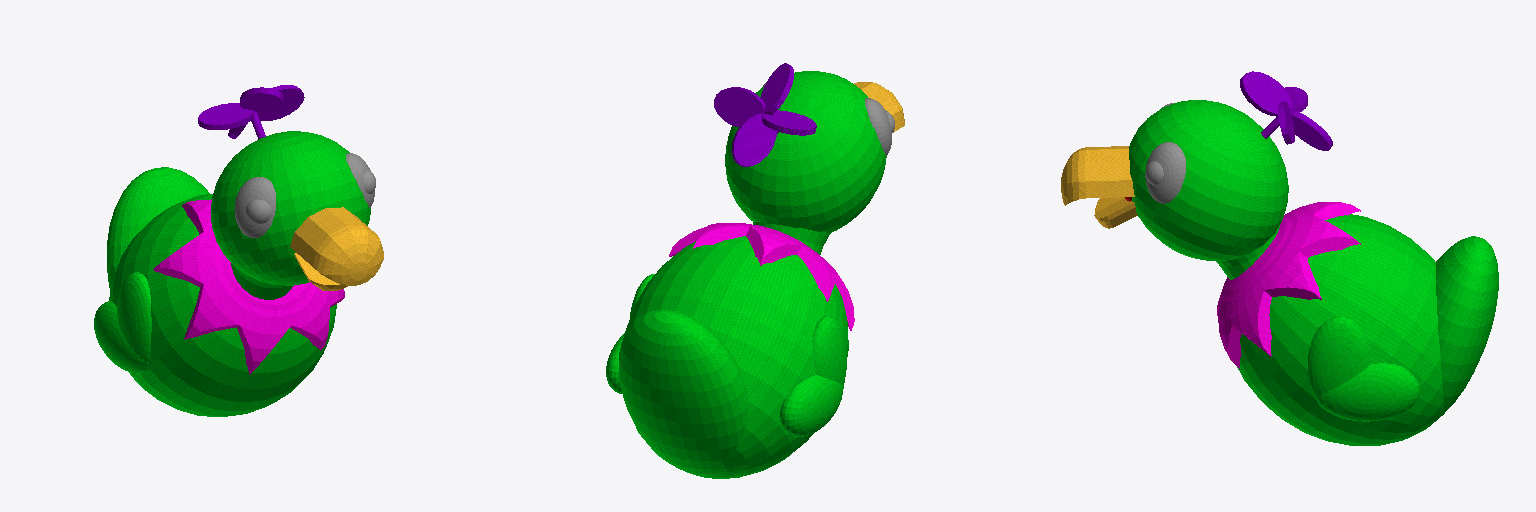
The picture shows the model from 3 angles: view 1: azimuth 30°, elevation 25°; view 2: azimuth 150°, elevation 25°; view 3: azimuth 270°, elevation 25°; orthographic projection.
Visible parts, largest first — view 1: Sphere001, 004, Sphere007, Capsule016, Sphere013, 005, Sphere010, Box008, Box010, Box006, Box007, Capsule017 (+1 smaller); view 2: Sphere001, 004, Sphere013, 005, Sphere007, Box009, Box007, Box010, Box008, Capsule016, Sphere010, Box006 (+1 smaller); view 3: Sphere001, 004, Sphere007, 006, Sphere013, Capsule016, Sphere009, Box010, Capsule017, Box009, Box006.
Boxes of the visible parts, x1,y1,x2,y2 form: Sphere001: [109, 194, 336, 416]; 004: [210, 131, 370, 285]; Sphere007: [153, 199, 344, 374]; Capsule016: [290, 207, 383, 285]; Sphere013: [107, 167, 209, 289]; 005: [94, 272, 151, 373]; Sphere010: [235, 177, 275, 237]; Box008: [198, 103, 253, 129]; Box010: [240, 87, 283, 112]; Box006: [231, 263, 292, 299]; Box007: [257, 85, 304, 120]; Capsule017: [294, 253, 347, 290]; Sphere001: [624, 236, 848, 478]; 004: [725, 71, 886, 232]; Sphere013: [619, 310, 748, 472]; 005: [780, 316, 846, 436]; Sphere007: [669, 223, 854, 330]; Box009: [731, 114, 776, 166]; Box007: [714, 87, 765, 126]; Box010: [760, 63, 793, 114]; Box008: [762, 110, 816, 135]; Capsule016: [854, 82, 904, 132]; Sphere010: [865, 98, 891, 155]; Box006: [753, 222, 830, 254]; Sphere001: [1237, 214, 1444, 445]; 004: [1129, 100, 1288, 260]; Sphere007: [1217, 202, 1360, 368]; 006: [1308, 316, 1419, 421]; Sphere013: [1436, 236, 1498, 415]; Capsule016: [1061, 146, 1134, 205]; Sphere009: [1145, 142, 1185, 203]; Box010: [1240, 71, 1291, 116]; Capsule017: [1094, 197, 1137, 228]; Box009: [1290, 109, 1332, 150]; Box006: [1216, 225, 1279, 279].
Bounding box in the file's own units: 65.29 × 108 × 118.
Materials: 7 (5 with a texture image).